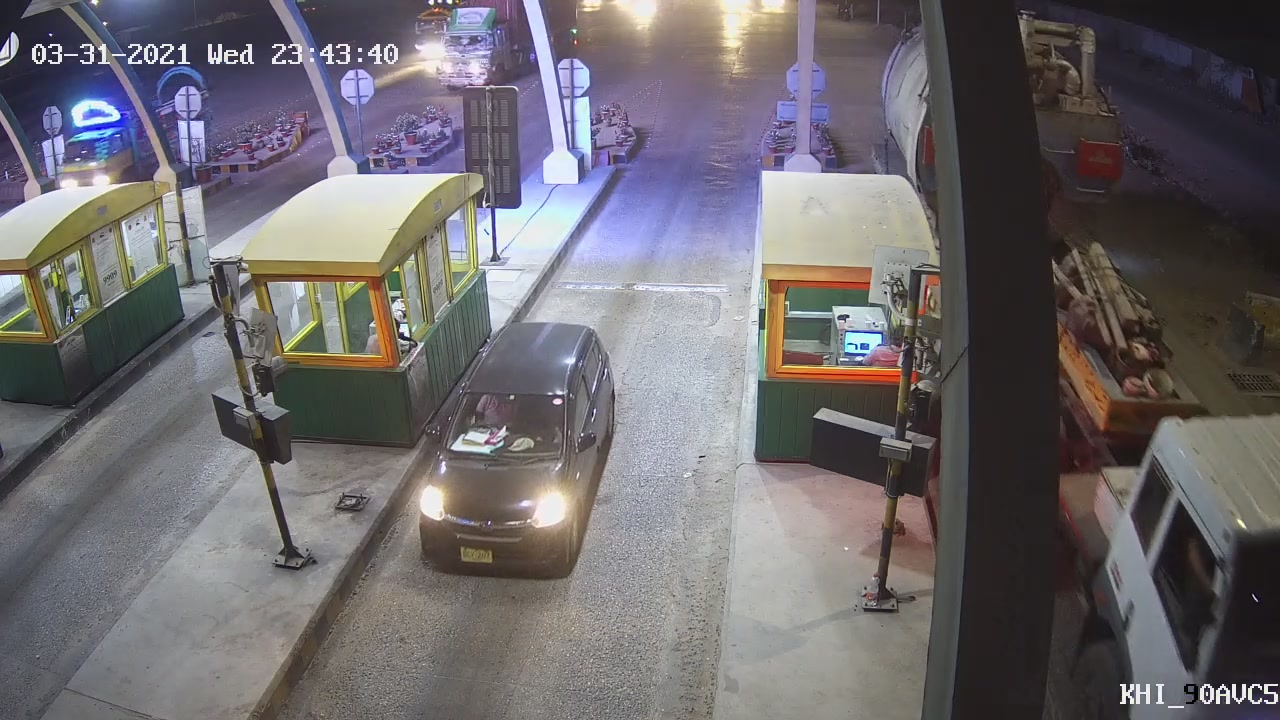F1: (389, 317, 638, 587)
